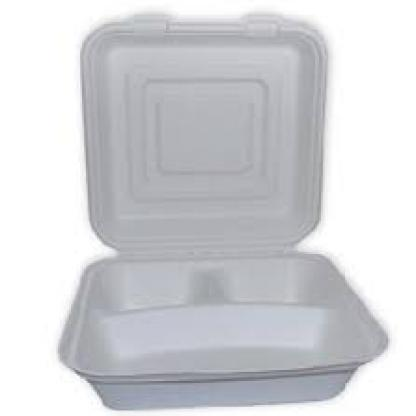paper: (56, 13, 386, 403)
